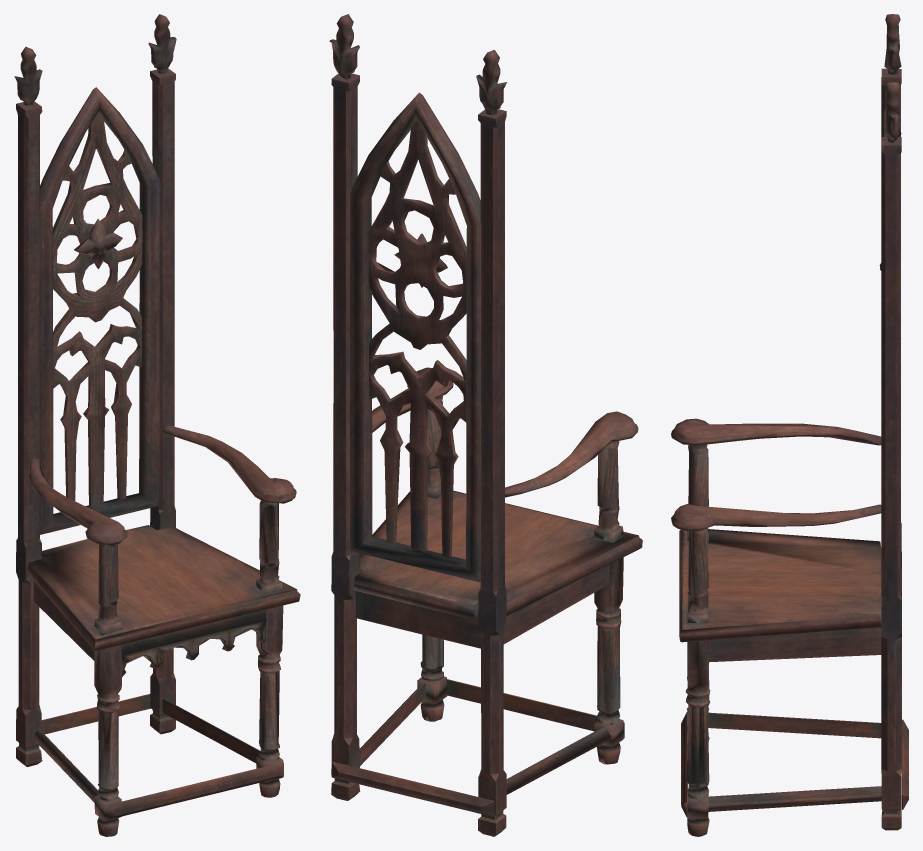
Rendered from WoodenChair_01.glb.
3 views of the same model, side by side, from view 1: azimuth 30°, elevation 25°; view 2: azimuth 150°, elevation 25°; view 3: azimuth 270°, elevation 25° (orthographic). The views are drawn at different scales.
Parts seen in each view (by area): view 1: WoodenChair_01; view 2: WoodenChair_01; view 3: WoodenChair_01.
Boxes of the visible parts, x1,y1,x2,y2 form: WoodenChair_01: [14, 14, 300, 836]; WoodenChair_01: [329, 14, 642, 836]; WoodenChair_01: [671, 14, 908, 836].
Bounding box in the file's own units: 0.6861 × 2.27 × 0.6576.
1 material, 1 textured.
